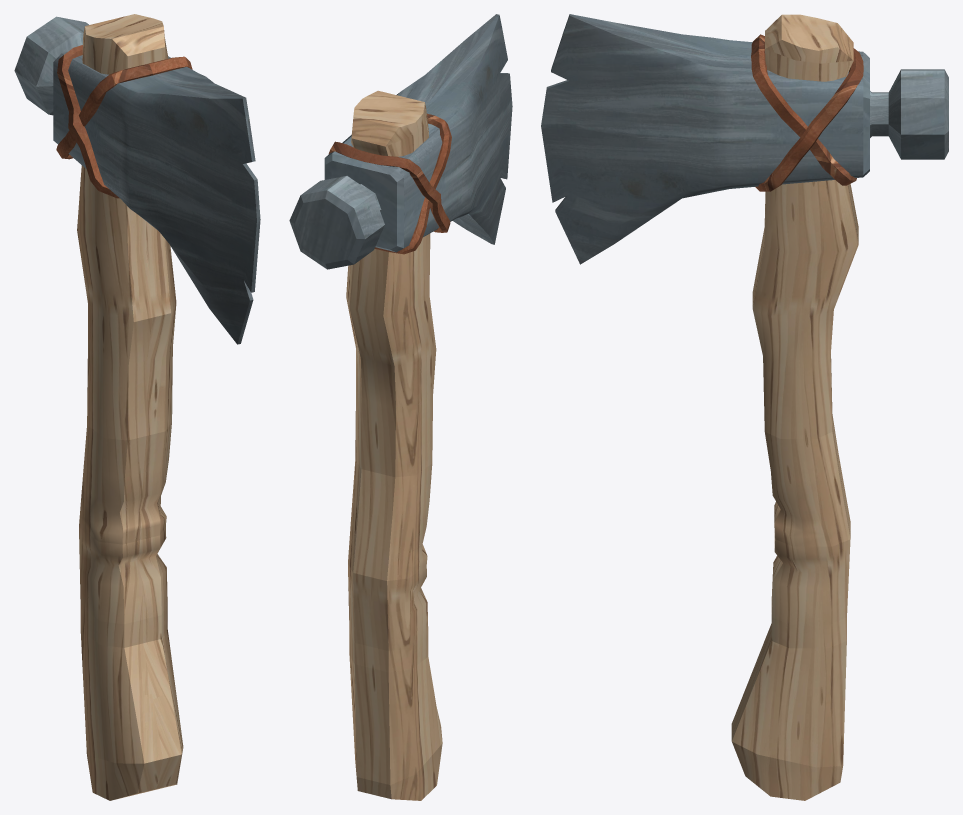
Rendered from axe_basic.fbx.
The picture shows the model from 3 angles, left to right: view 1: azimuth 30°, elevation 25°; view 2: azimuth 150°, elevation 25°; view 3: azimuth 270°, elevation 25°; orthographic projection. The views are drawn at different scales.
Visible parts, largest first — view 1: pCylinder8; view 2: pCylinder8; view 3: pCylinder8.
Boxes of the visible parts, x1=… form: pCylinder8: x1=14, y1=14, x2=260, y2=800; pCylinder8: x1=289, y1=14, x2=512, y2=800; pCylinder8: x1=541, y1=14, x2=948, y2=800.
Size of the model in its own units: 7.4 by 50.19 by 24.09.
Materials: 3 (3 with a texture image).
